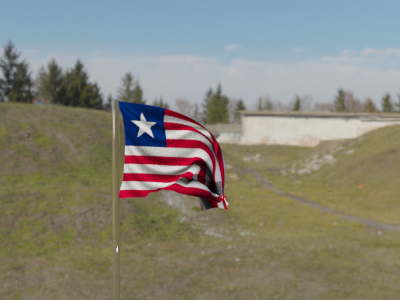Liberia flag: (116, 102, 230, 213)
